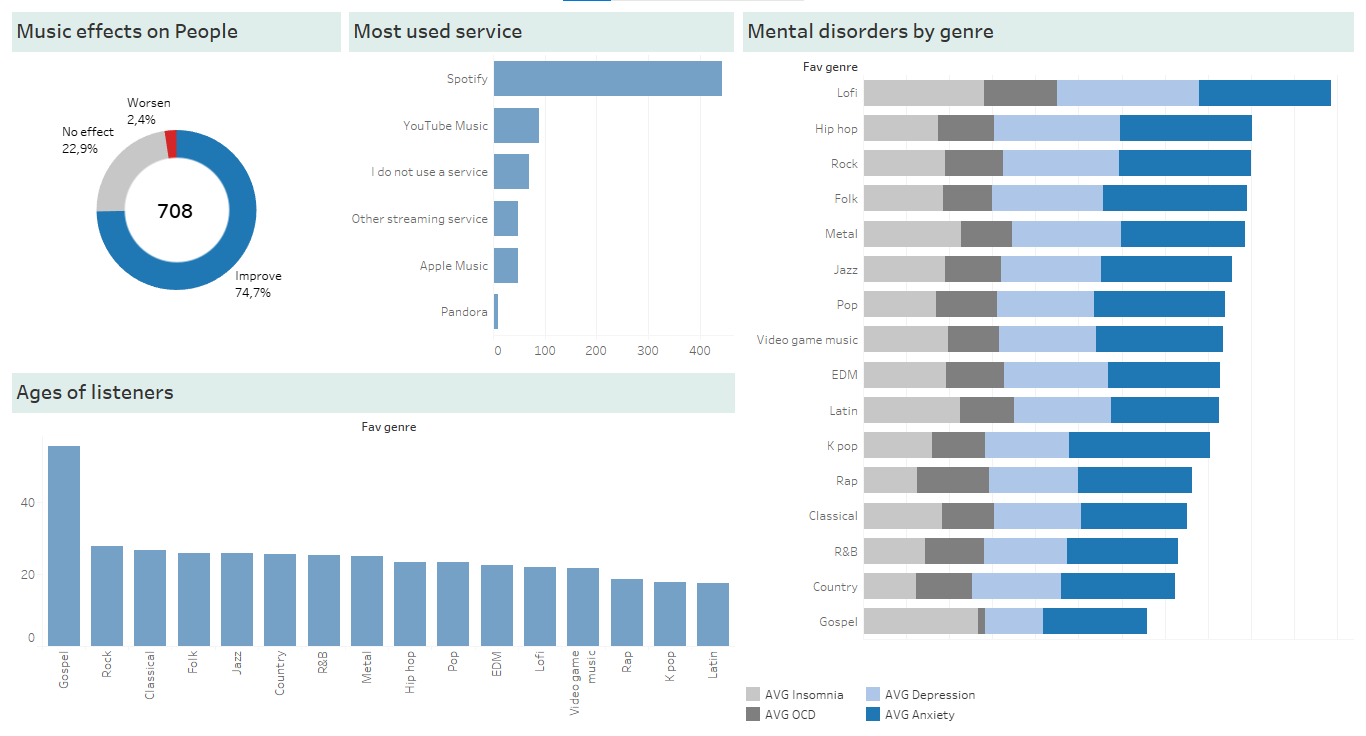

This screenshot's page, from the dashboard's own definition file:
{"tool":"tableau","page":{"name":"General Aspects","canvas":[1000,1000],"units":"permille","ordinal":0},"visuals":[{"type":"worksheet","title":"Music effects on People","mark":"Pie","cols":["Calculation_4204110263256723457","Calculation_4204110263256723457"],"box":[7.1,14.9,246.4,485.1]},{"type":"worksheet","title":"Most used service","mark":"Automatic","rows":["Primary streaming service"],"cols":["Primary streaming service"],"box":[253.5,14.9,287.3,485.1]},{"type":"worksheet","title":"Mental disorders by genre","mark":"Automatic","rows":["Fav genre"],"box":[540.8,14.9,452.1,879.1]},{"type":"worksheet","title":"Ages of listeners","mark":"Automatic","rows":["Age"],"cols":["Fav genre"],"box":[7.1,499.9,533.7,485.2]},{"type":"legend","title":"Mental disorders by genre","param":"[federated.15excv20jf3q8i1dlxm401oqn1cc].[:Measure Names]","box":[540.8,894,452.1,91.1]}]}

Visuals, with their boxes on the dashboard's canvas, which has no fixed pixel size, in thousandths of its width and height (x1, y1, x2, y2). These are canvas units, not pixel positions in the 1366x736 screenshot, which may show the page scaled, cropped or inside an application window:
"Music effects on People" worksheet (Pie marks): crop(7, 15, 254, 500)
"Most used service" worksheet: crop(254, 15, 541, 500)
"Mental disorders by genre" worksheet: crop(541, 15, 993, 894)
"Ages of listeners" worksheet: crop(7, 500, 541, 985)
"Mental disorders by genre" legend: crop(541, 894, 993, 985)
